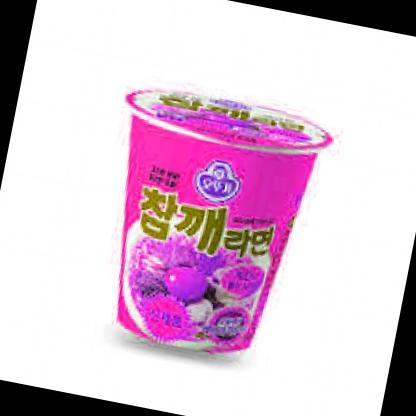Ramen: (81, 80, 330, 373)
